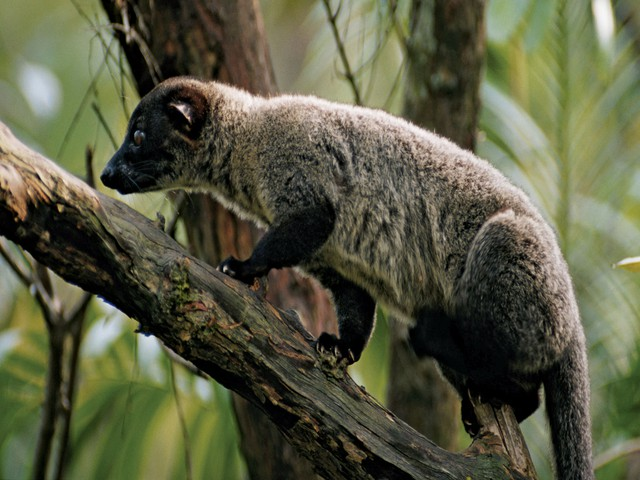civet: (96, 76, 608, 480)
